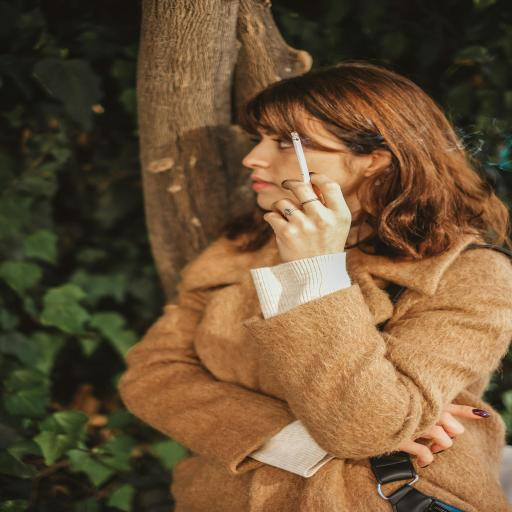terdeteksi pegang rokok: (244, 122, 367, 248)
